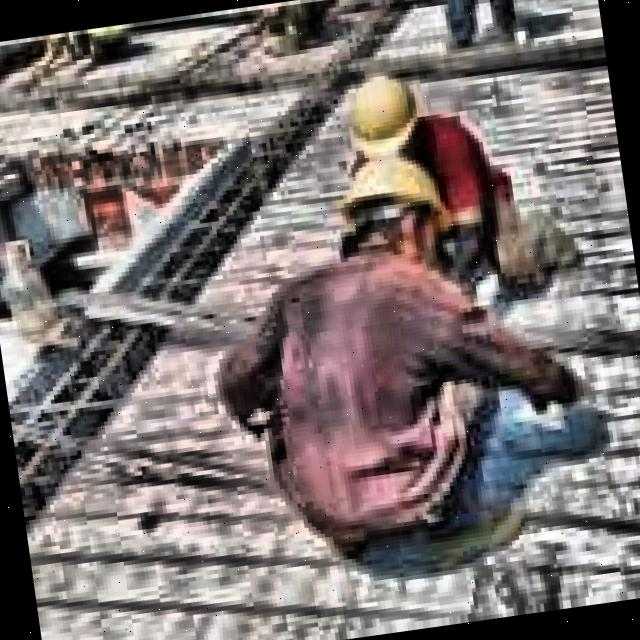helmet: (330, 140, 461, 278), (334, 66, 434, 170)
